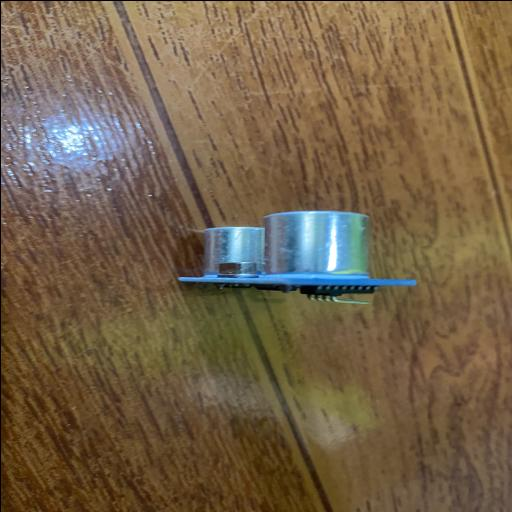Ultrasonic Sensor: (176, 208, 418, 306)
